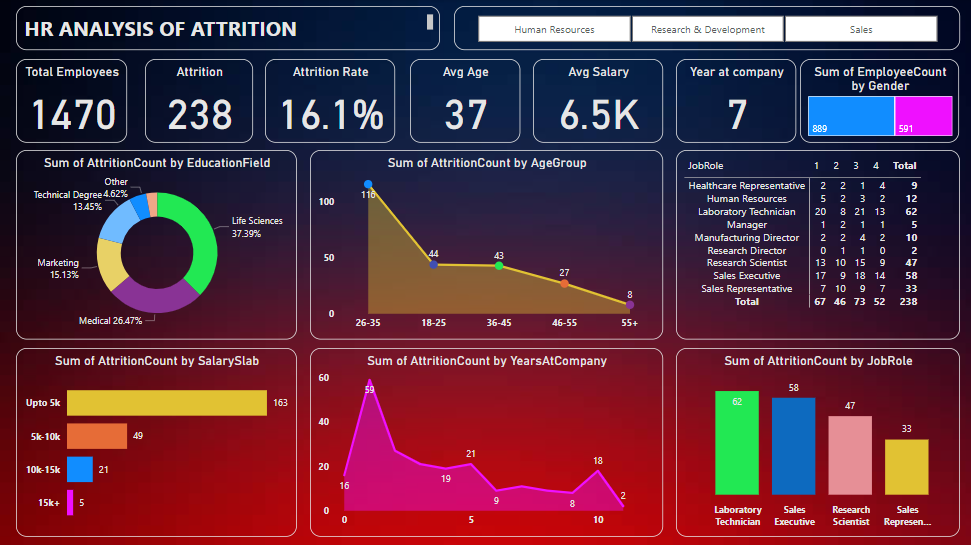

This screenshot's page, from the dashboard's own definition file:
{"tool":"powerbi","page":{"name":"Page 1","canvas":[1280,720],"ordinal":0},"visuals":[{"type":"card","title":"Total Employees","fields":{"Values":["Count(HR_Analytics (2).EmpID)"]},"box":[23.4,78.5,145.9,110.1],"z":0},{"type":"card","title":"Attrition","fields":{"Values":["Sum(HR_Analytics (2).AttritionCount)"]},"box":[192.7,78.5,141.8,110.1],"z":1000},{"type":"card","title":"Attrition Rate","fields":{"Values":["HR_Analytics (2).AttritionRate"]},"box":[351,78.5,170.7,110.1],"z":2000},{"type":"card","title":"Avg Age","fields":{"Values":["Avg(HR_Analytics (2).Age)"]},"box":[540.9,78.5,144.5,110.1],"z":3000},{"type":"card","title":"Avg Salary","fields":{"Values":["Avg(HR_Analytics (2).MonthlyIncome)"]},"box":[703.3,78.5,170.7,110.1],"z":4000},{"type":"card","title":"Year at company","fields":{"Values":["Avg(HR_Analytics (2).YearsAtCompany)"]},"box":[890.5,78.5,158.3,110.1],"z":5000},{"type":"donutChart","fields":{"Category":["HR_Analytics (2).EducationField"],"Y":["Sum(HR_Analytics (2).AttritionCount)"]},"box":[23.4,198.2,368.9,249.1],"z":6000},{"type":"areaChart","fields":{"Category":["HR_Analytics (2).AgeGroup"],"Y":["Sum(HR_Analytics (2).AttritionCount)"]},"box":[410.2,198.2,463.8,249.1],"z":7000},{"type":"clusteredBarChart","fields":{"Category":["HR_Analytics (2).SalarySlab"],"Y":["Sum(HR_Analytics (2).AttritionCount)"]},"box":[23.4,458.3,368.9,247.7],"z":8000},{"type":"columnChart","fields":{"Category":["HR_Analytics (2).JobRole"],"Y":["Sum(HR_Analytics (2).AttritionCount)"]},"box":[890.5,458.3,373,247.7],"z":9000},{"type":"areaChart","fields":{"Category":["HR_Analytics (2).YearsAtCompany"],"Y":["Sum(HR_Analytics (2).AttritionCount)"]},"box":[410.2,458.3,463.8,247.7],"z":10000},{"type":"treemap","fields":{"Group":["HR_Analytics (2).Gender"],"Values":["Sum(HR_Analytics (2).EmployeeCount)"]},"box":[1054.3,78.5,209.2,110.1],"z":11000},{"type":"textbox","box":[23.4,9.6,557.4,57.8],"z":12000},{"type":"pivotTable","fields":{"Values":["Sum(HR_Analytics (2).AttritionCount)"],"Columns":["HR_Analytics (2).JobSatisfaction"],"Rows":["HR_Analytics (2).JobRole"]},"box":[890.5,198.2,373,249.1],"z":13000},{"type":"slicer","fields":{"Values":["HR_Analytics (2).Department"]},"box":[598.7,9.6,664.8,57.8],"z":13001}]}

Visuals, with their boxes in screenshot pixels (x1, y1, x2, y2), scaled from the page's 1280x720 canvas onto the 971x545 screenshot:
"Total Employees" card: bbox(18, 59, 128, 143)
"Attrition" card: bbox(146, 59, 254, 143)
"Attrition Rate" card: bbox(266, 59, 396, 143)
"Avg Age" card: bbox(410, 59, 520, 143)
"Avg Salary" card: bbox(534, 59, 663, 143)
"Year at company" card: bbox(676, 59, 796, 143)
donutChart - HR_Analytics (2).EducationField x Sum(HR_Analytics (2).AttritionCount): bbox(18, 150, 298, 339)
areaChart - HR_Analytics (2).AgeGroup x Sum(HR_Analytics (2).AttritionCount): bbox(311, 150, 663, 339)
clusteredBarChart - HR_Analytics (2).SalarySlab x Sum(HR_Analytics (2).AttritionCount): bbox(18, 347, 298, 534)
columnChart - HR_Analytics (2).JobRole x Sum(HR_Analytics (2).AttritionCount): bbox(676, 347, 958, 534)
areaChart - HR_Analytics (2).YearsAtCompany x Sum(HR_Analytics (2).AttritionCount): bbox(311, 347, 663, 534)
treemap - HR_Analytics (2).Gender x Sum(HR_Analytics (2).EmployeeCount): bbox(800, 59, 958, 143)
textbox: bbox(18, 7, 441, 51)
pivotTable - Sum(HR_Analytics (2).AttritionCount) x HR_Analytics (2).JobSatisfaction: bbox(676, 150, 958, 339)
slicer - HR_Analytics (2).Department: bbox(454, 7, 958, 51)
